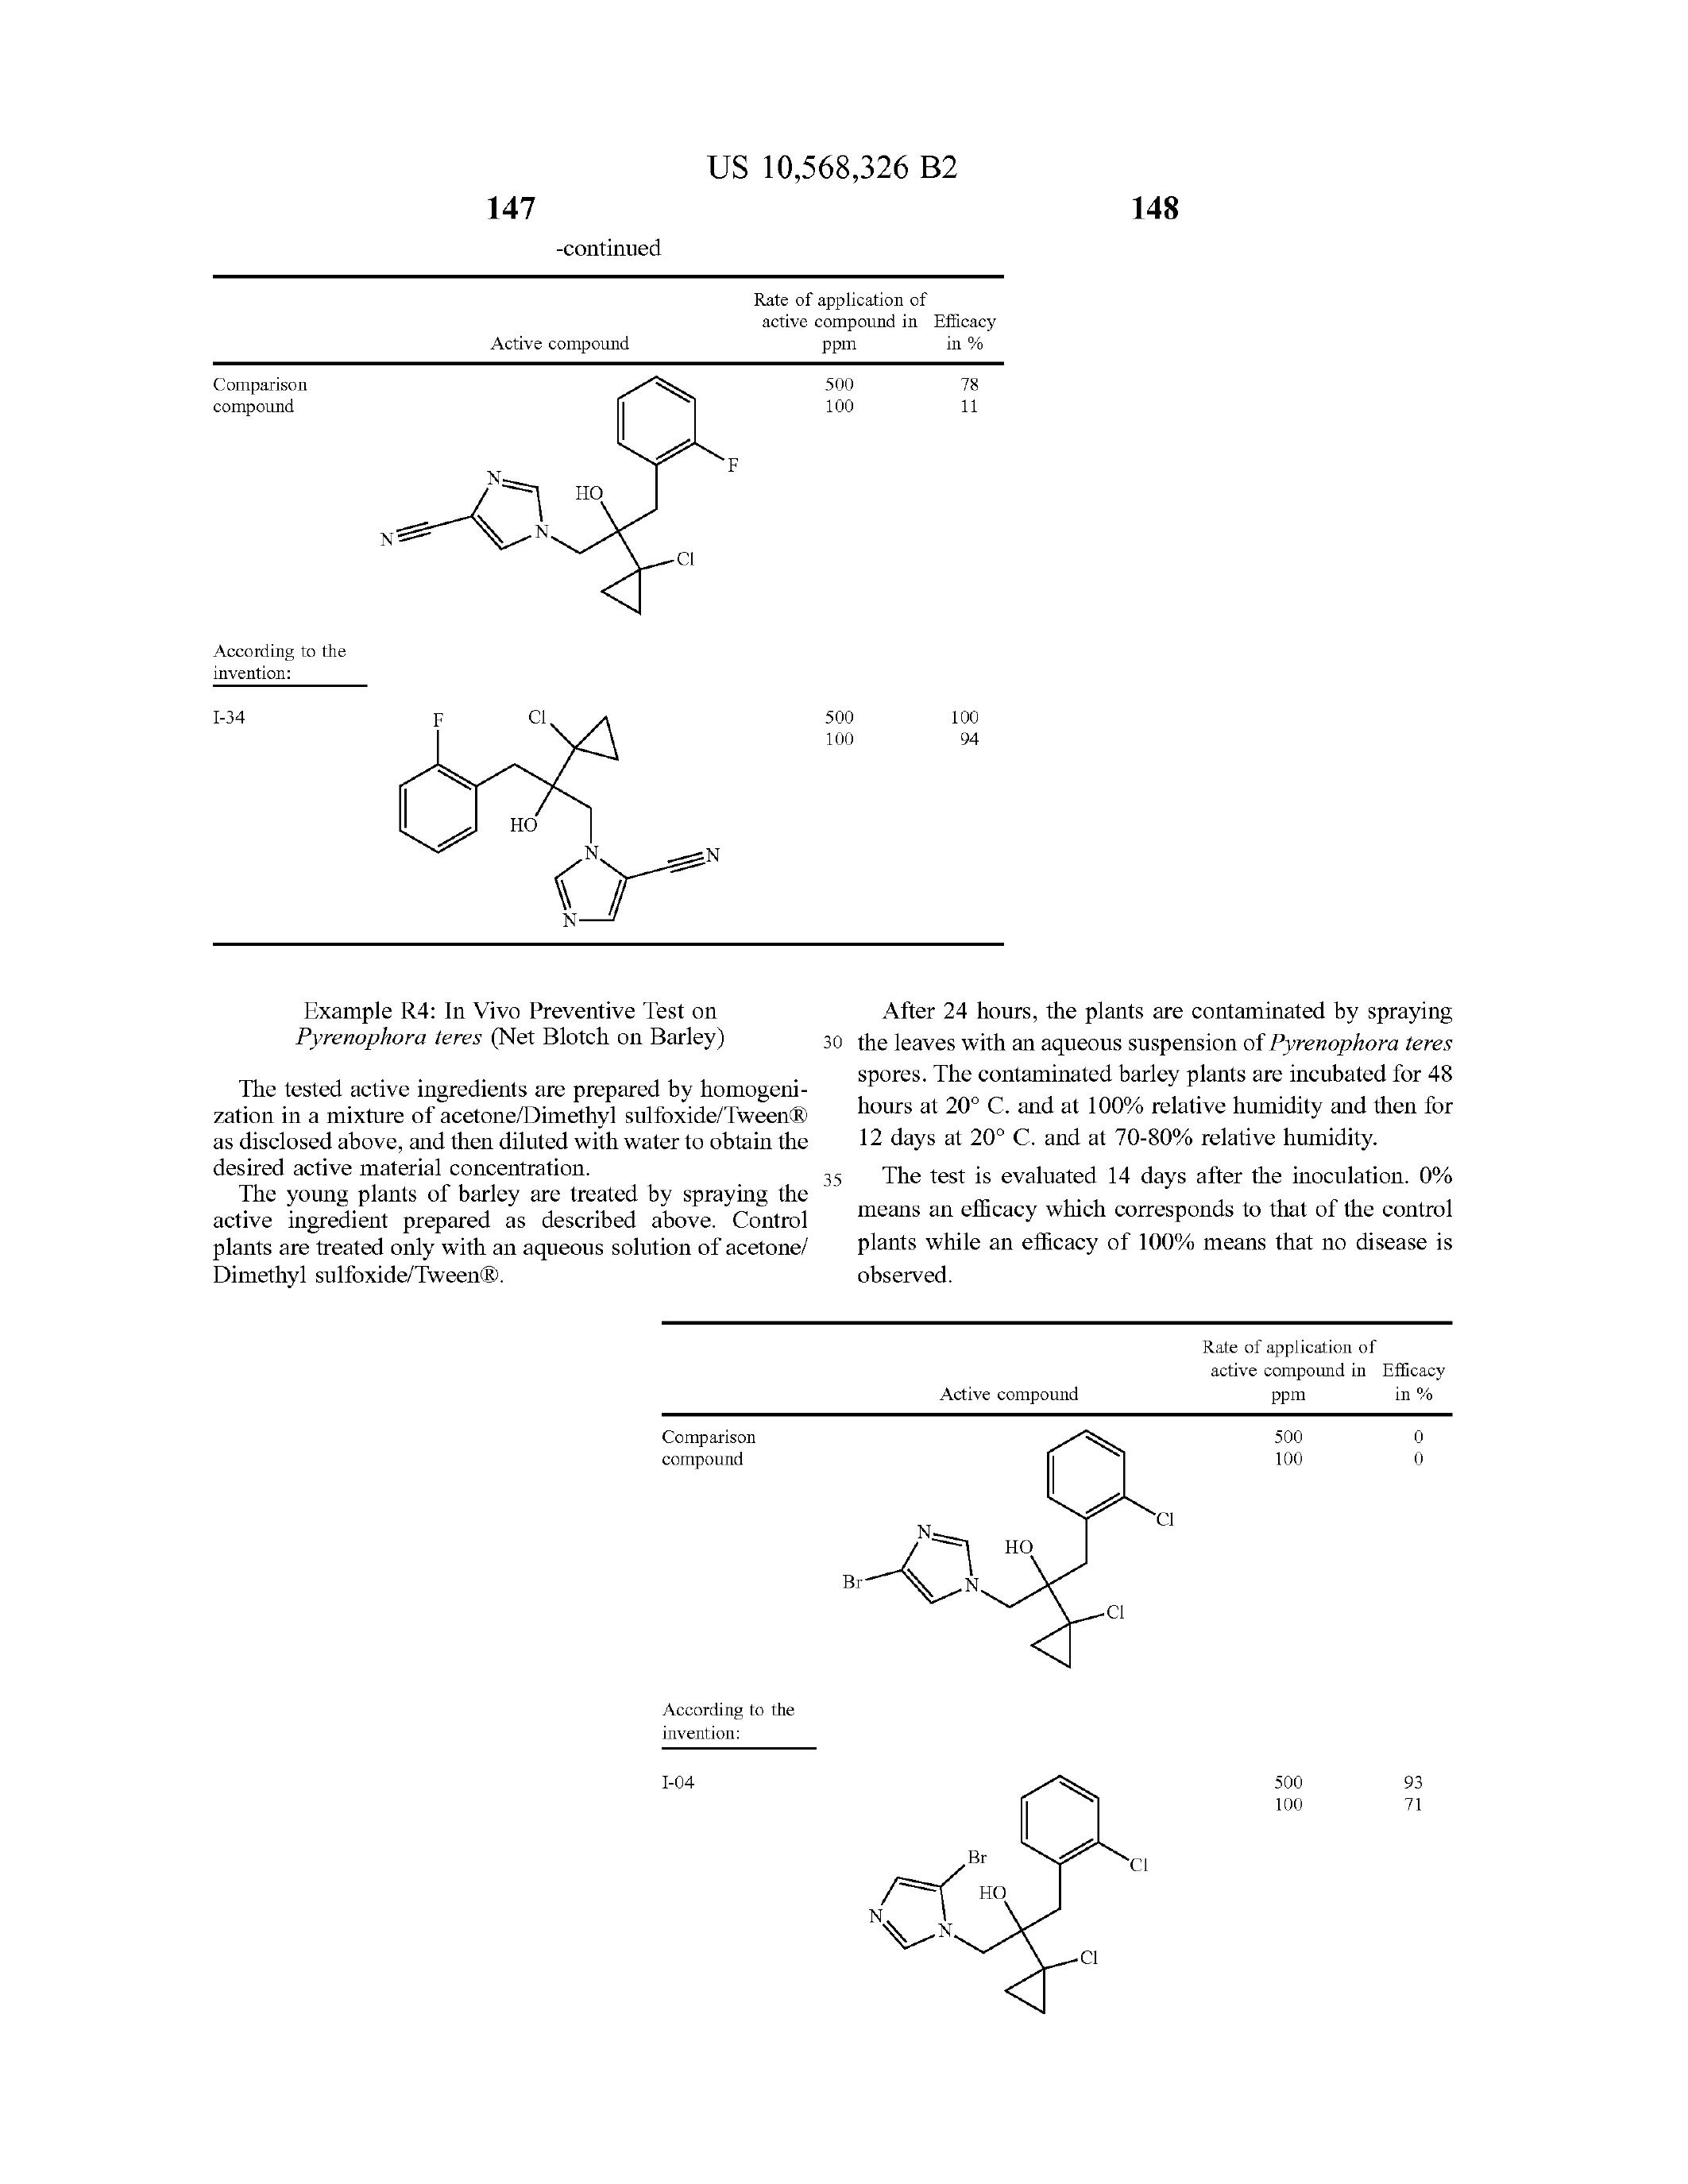relevant-structures: (833, 1773, 1239, 2161), (812, 1413, 1207, 1732), (365, 642, 759, 938), (358, 376, 777, 635)
